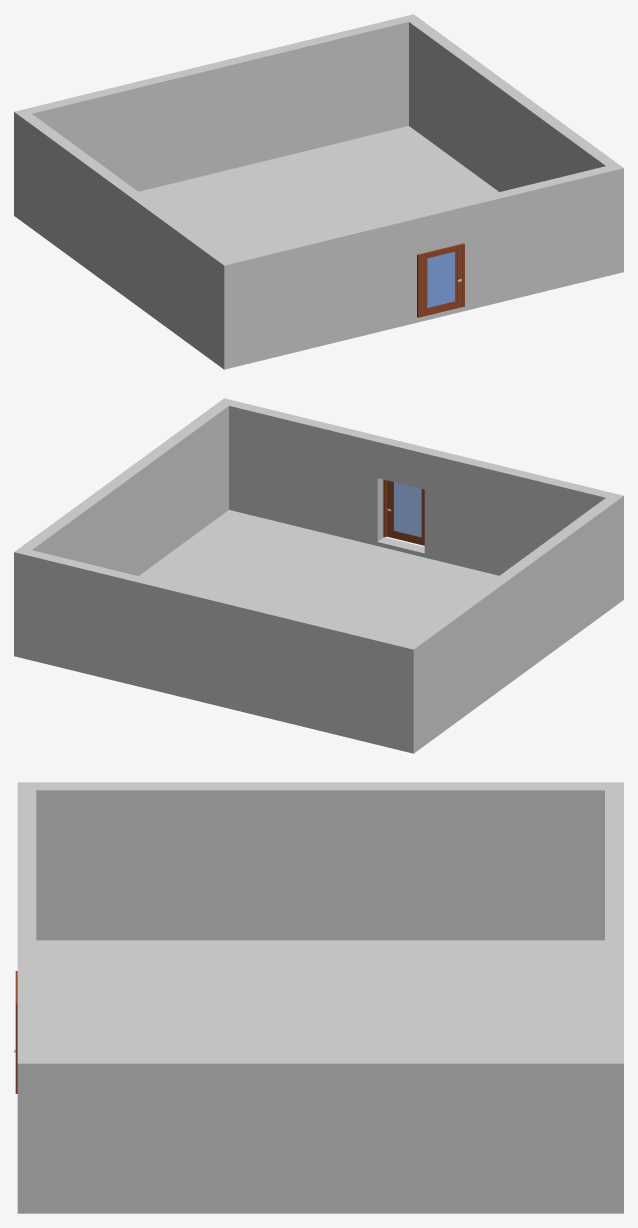
The picture shows the model from 3 angles, top to bottom: view 1: azimuth 30°, elevation 25°; view 2: azimuth 150°, elevation 25°; view 3: azimuth 270°, elevation 25°; orthographic projection. The views are drawn at different scales.
Visible parts, largest first — view 1: SketchUp (×2), group_10, group_8, group_3; view 2: SketchUp (×3), group_10, group_8; view 3: SketchUp (×2).
Part boxes in pixels (left/top/right/bottom): SketchUp (×2): left=14, top=14, right=623, bottom=369; group_10: left=427, top=251, right=455, bottom=307; group_8: left=420, top=245, right=462, bottom=317; group_3: left=417, top=243, right=464, bottom=317; SketchUp (×3): left=14, top=398, right=623, bottom=753; group_10: left=393, top=482, right=421, bottom=537; group_8: left=387, top=480, right=424, bottom=545; SketchUp (×2): left=17, top=782, right=623, bottom=1213.
Bounding box in the file's own units: 155 × 142 × 38.58.
